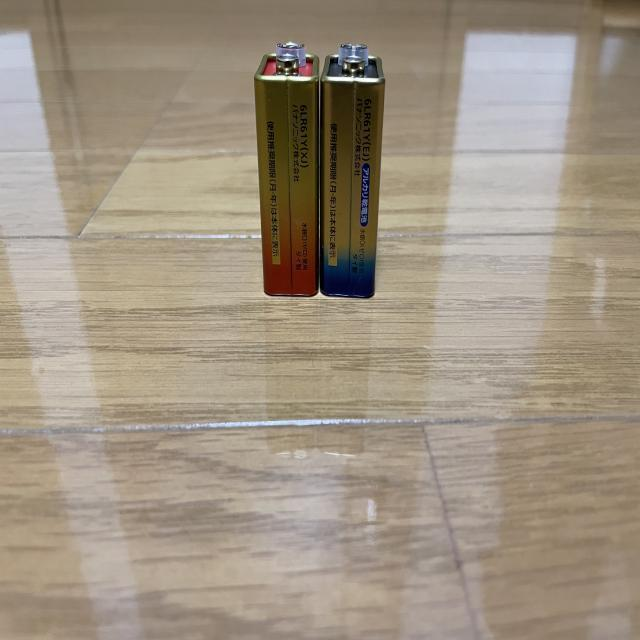9V: (321, 43, 386, 300), (255, 40, 319, 298)
